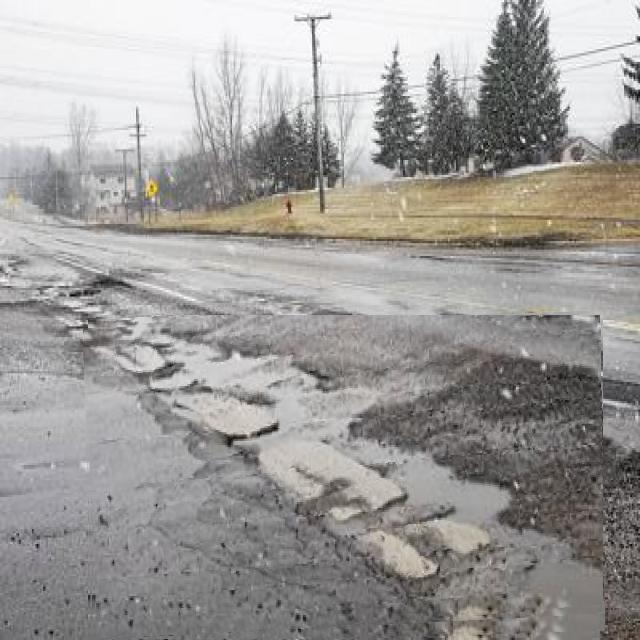Pothole: (86, 315, 603, 640)
